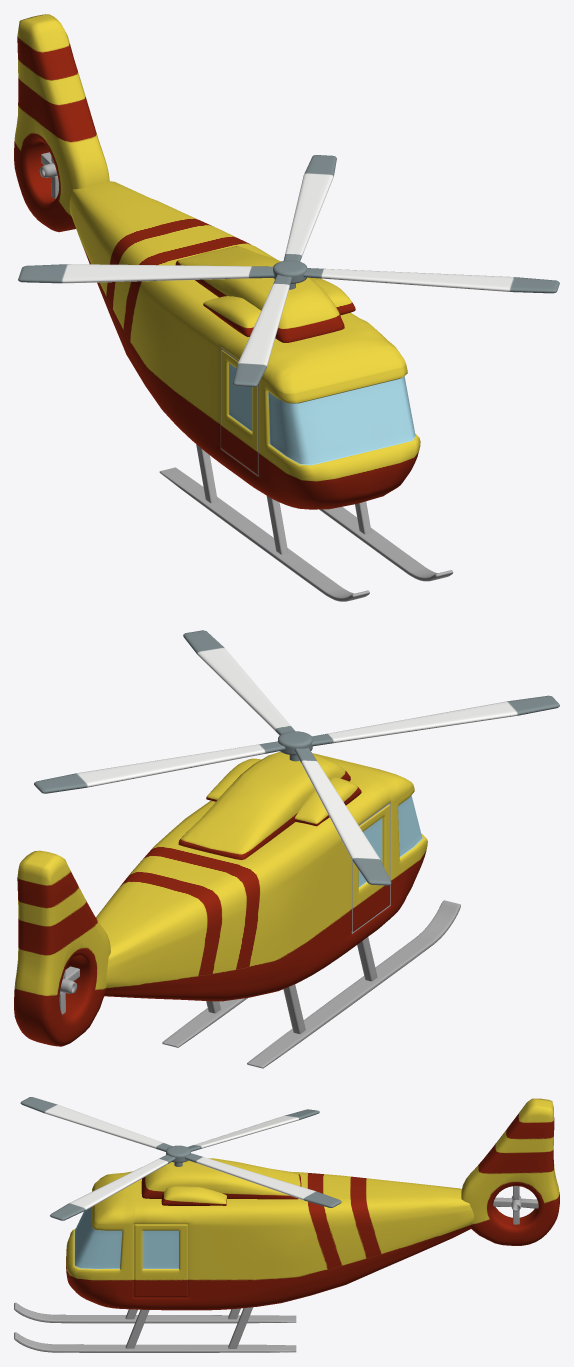
Rendered from Helicopter.fbx.
3 views of the same model, one above another, from view 1: azimuth 30°, elevation 25°; view 2: azimuth 150°, elevation 25°; view 3: azimuth 270°, elevation 25° (orthographic). The views are drawn at different scales.
Visible parts, largest first — view 1: car_fixed24:car_fixed23:car_fixed22:polySurface1; view 2: car_fixed24:car_fixed23:car_fixed22:polySurface1; view 3: car_fixed24:car_fixed23:car_fixed22:polySurface1.
Part boxes in pixels (<box>): car_fixed24:car_fixed23:car_fixed22:polySurface1: <box>14,14,559,601</box>; car_fixed24:car_fixed23:car_fixed22:polySurface1: <box>14,630,559,1068</box>; car_fixed24:car_fixed23:car_fixed22:polySurface1: <box>14,1097,559,1352</box>.
Size of the model in its own units: 19.17 by 15.75 by 33.46.
